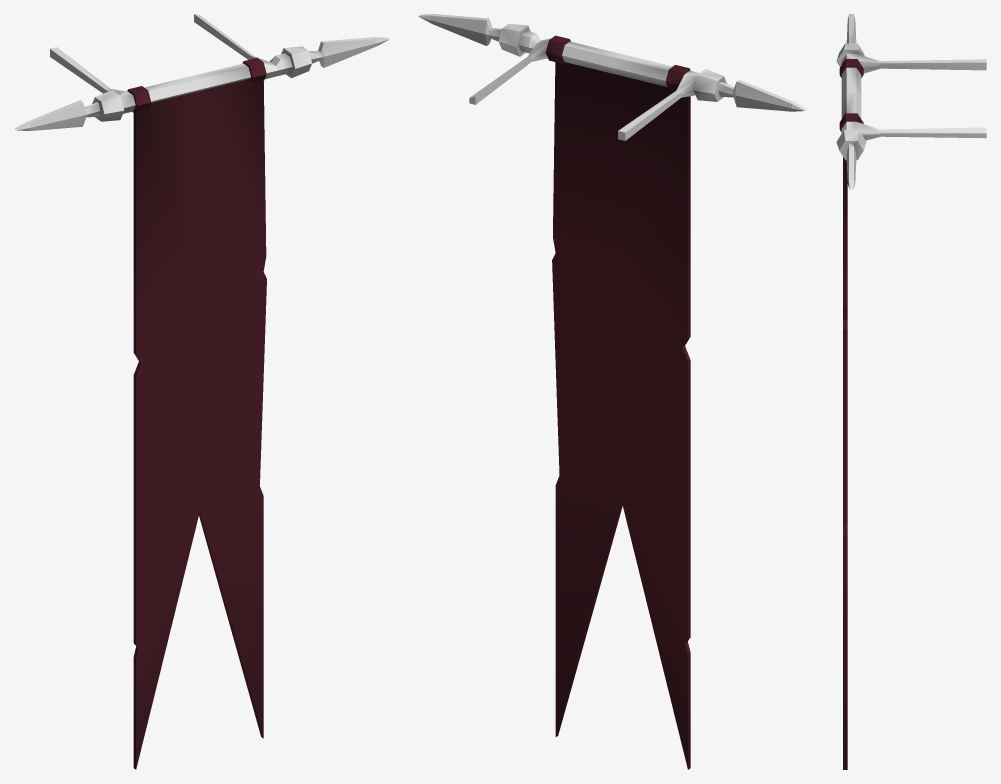
File: pq_banniere_mur.glb
3 renders of one model, left to right at view 1: azimuth 30°, elevation 25°; view 2: azimuth 150°, elevation 25°; view 3: azimuth 270°, elevation 25°, orthographic. The views are drawn at different scales.
Parts seen in each view (by area): view 1: Banner_wall; view 2: Banner_wall; view 3: Banner_wall.
Boxes of the visible parts, box(x1,y1,x2,y2) form: Banner_wall: box(14, 14, 389, 769); Banner_wall: box(418, 14, 807, 769); Banner_wall: box(836, 14, 986, 769).
Size of the model in its own units: 1.27 by 2.2 by 0.4583.
